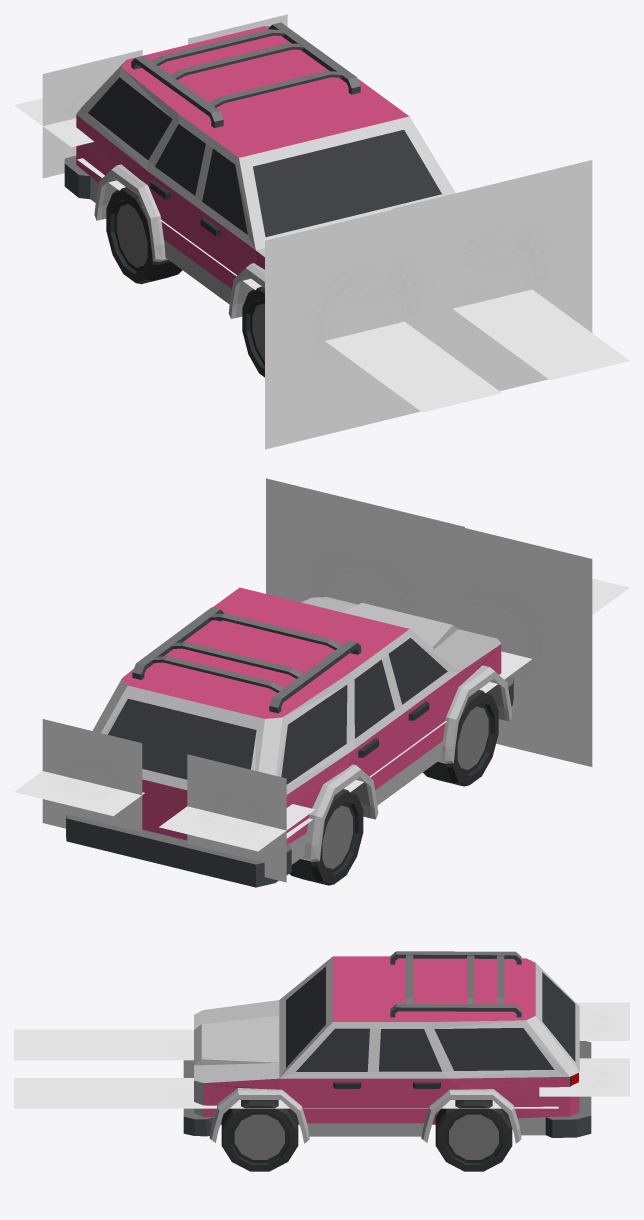
Rendered from SnowWagon.fbx.
3 views of the same model, one above another, from view 1: azimuth 30°, elevation 25°; view 2: azimuth 150°, elevation 25°; view 3: azimuth 270°, elevation 25° (orthographic). The views are drawn at different scales.
Parts seen in each view (by area): view 1: StopLightBillboard (×7), BodyMesh, Wheel (×2); view 2: BodyMesh, StopLightBillboard (×7), Wheel (×2); view 3: BodyMesh, StopLightBillboard (×4), Wheel (×2).
Boxes of the visible parts, x1=… form: StopLightBillboard (×7): x1=14, y1=14, x2=629, y2=449; BodyMesh: x1=64, y1=22, x2=455, y2=318; Wheel (×2): x1=106, y1=187, x2=264, y2=377; BodyMesh: x1=66, y1=587, x2=513, y2=887; StopLightBillboard (×7): x1=14, y1=478, x2=629, y2=882; Wheel (×2): x1=289, y1=690, x2=498, y2=885; BodyMesh: x1=183, y1=951, x2=591, y2=1143; StopLightBillboard (×4): x1=14, y1=1002, x2=629, y2=1108; Wheel (×2): x1=221, y1=1100, x2=512, y2=1171.
Size of the model in its own units: 1.64 by 1.01 by 3.39.
Materials: 3 (3 with a texture image).
